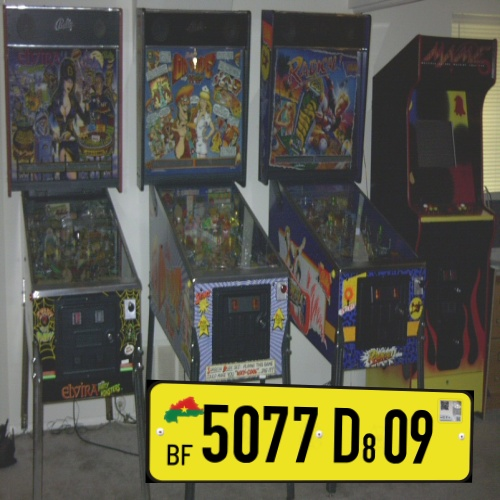plate: (137, 370, 493, 495)
